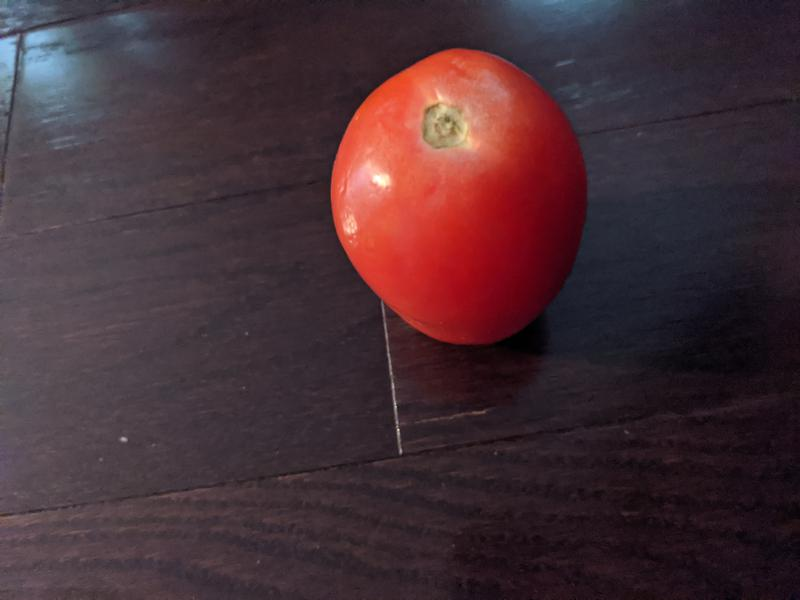tomato: (329, 48, 589, 347)
